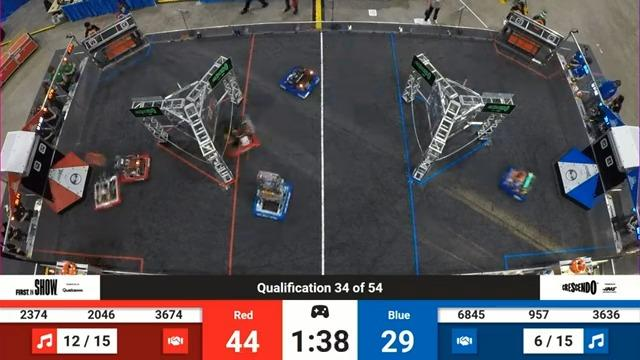robot: (79, 148, 127, 209), (251, 166, 298, 224), (219, 112, 264, 156), (497, 161, 541, 206), (276, 63, 323, 105), (109, 148, 157, 187)
